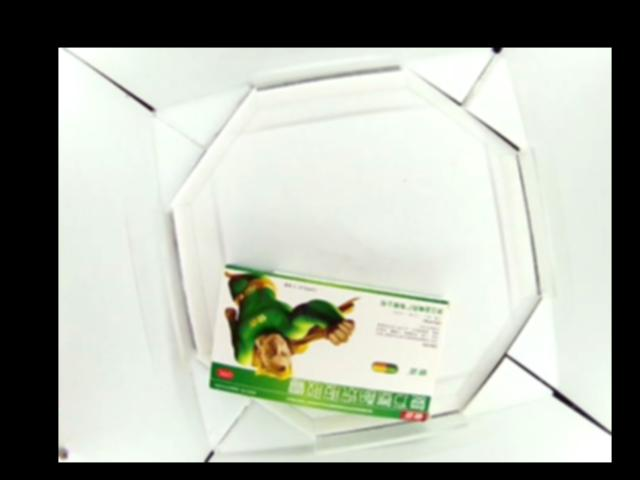Medicine: (206, 264, 449, 424)
